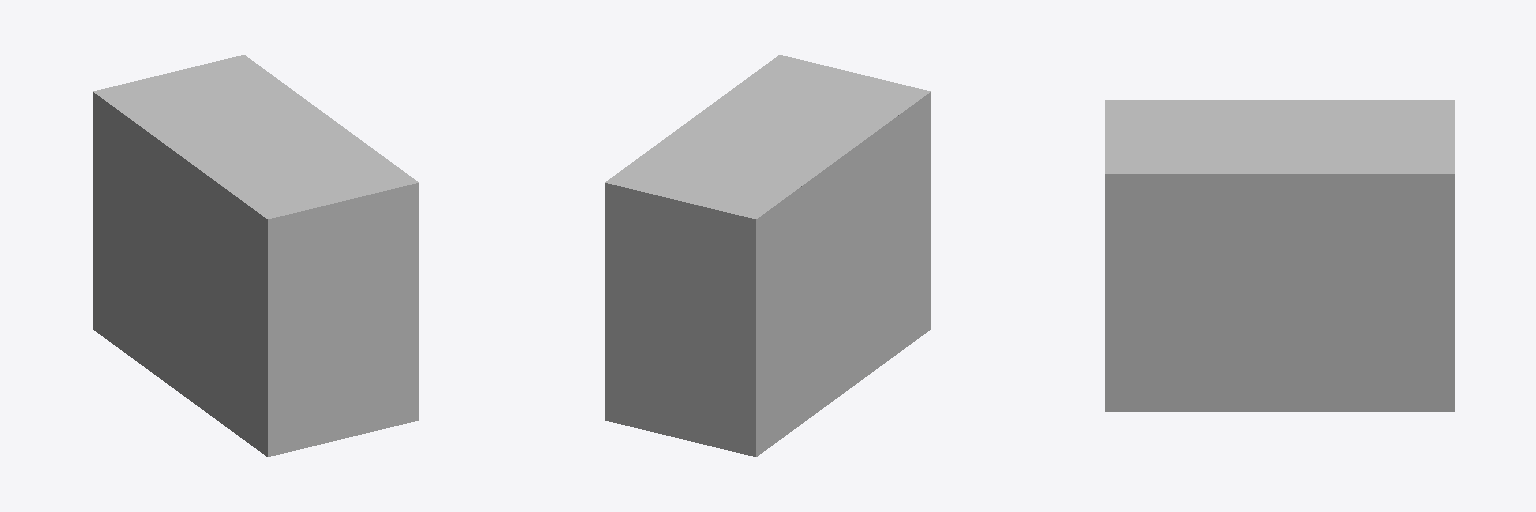
The model's file is Cliffside 4x3.obj.
The picture shows the model from 3 angles: view 1: azimuth 30°, elevation 25°; view 2: azimuth 150°, elevation 25°; view 3: azimuth 270°, elevation 25°; orthographic projection.
Visible parts, largest first — view 1: Cube; view 2: Cube; view 3: Cube.
Part boxes in pixels (left/top/right/bottom): Cube: left=93, top=55, right=418, bottom=456; Cube: left=605, top=55, right=930, bottom=456; Cube: left=1105, top=100, right=1454, bottom=411.
Size of the model in its own units: 1 by 1.5 by 2.